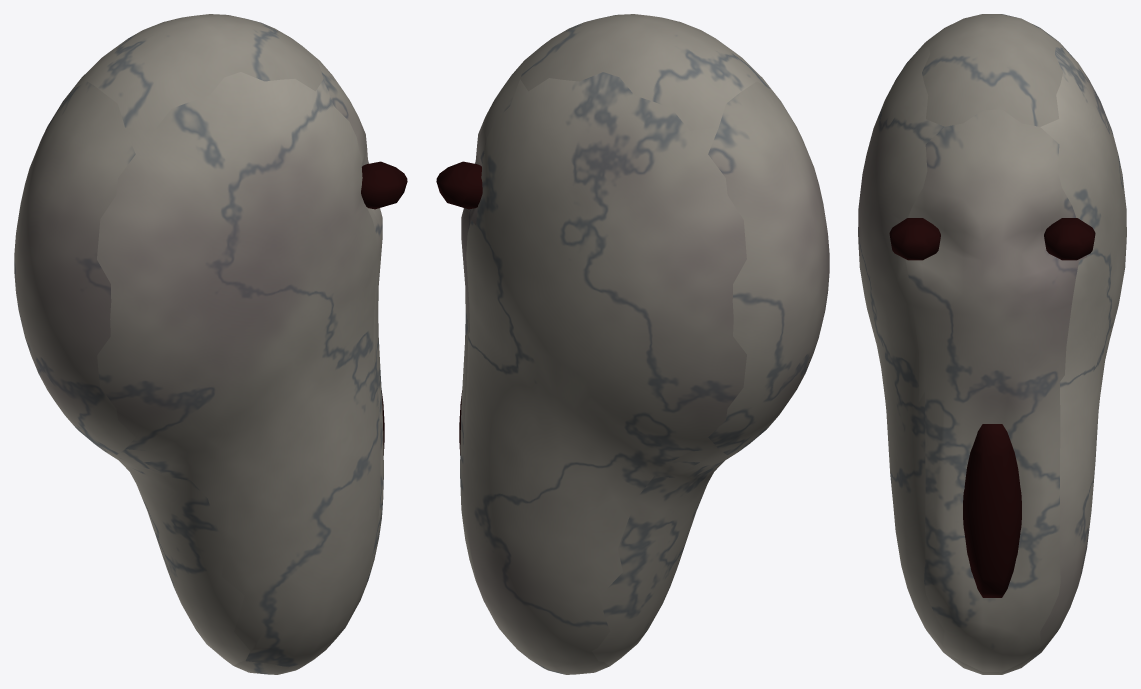
Rendered from SM_EnemyHead.fbx.
3 views of the same model, side by side, from view 1: azimuth 30°, elevation 25°; view 2: azimuth 150°, elevation 25°; view 3: azimuth 270°, elevation 25° (orthographic). The views are drawn at different scales.
Parts seen in each view (by area): view 1: SM_EnemyHead; view 2: SM_EnemyHead; view 3: SM_EnemyHead.
Boxes of the visible parts, x1,y1,x2,y2 form: SM_EnemyHead: [14, 14, 407, 674]; SM_EnemyHead: [436, 14, 829, 674]; SM_EnemyHead: [858, 14, 1126, 674].
Size of the model in its own units: 0.1926 by 0.3483 by 0.1396.
Materials: 2 (1 with a texture image).
